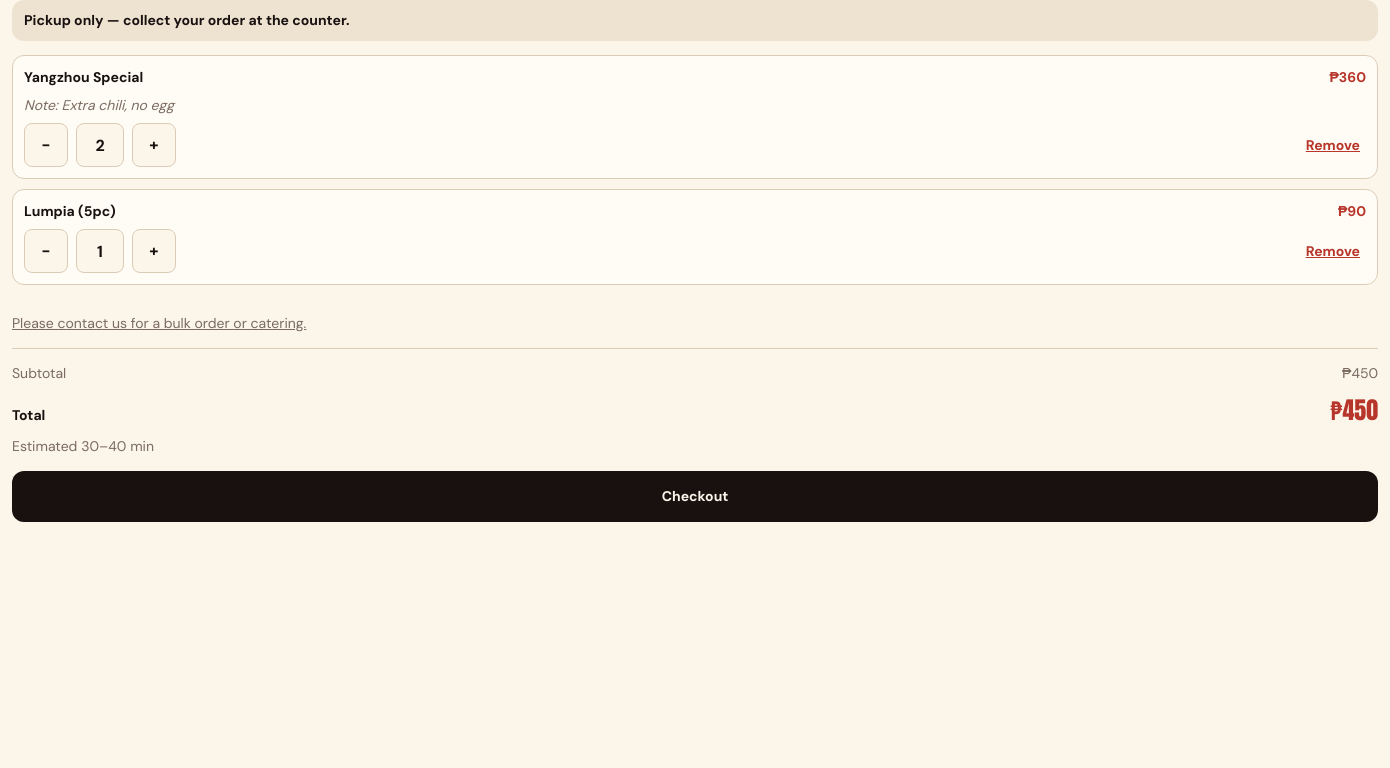
Test: CartLineRow writes › sends the new quantity to the backend and re-reads the page on +
The width and height of the screenshot is (1390, 768).
Click the button named "Increase quantity". click: {"x": 154, "y": 145}
box: top-left (132, 123), bottom-right (176, 167)
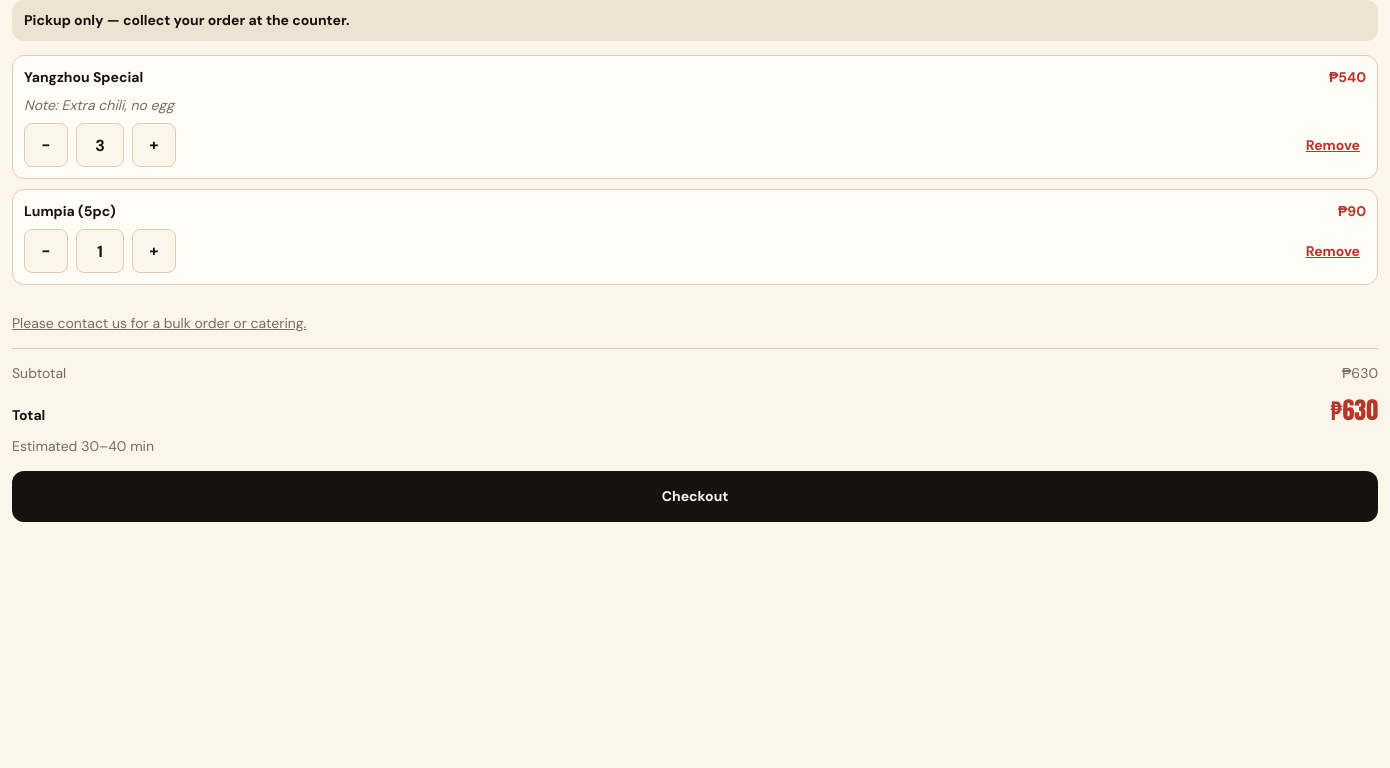
Expected: the field named "Quantity of Yangzhou Special" holds "3", top-left (76, 123), bottom-right (124, 167)
